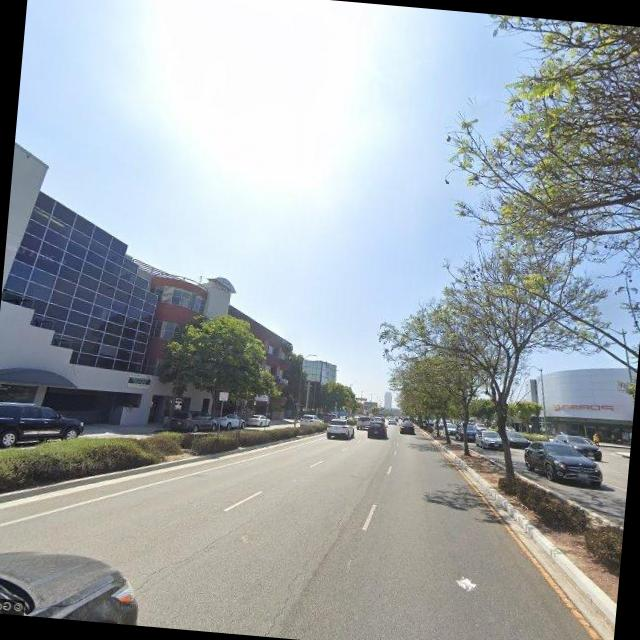pothole: (132, 500, 268, 603), (250, 540, 322, 638)
